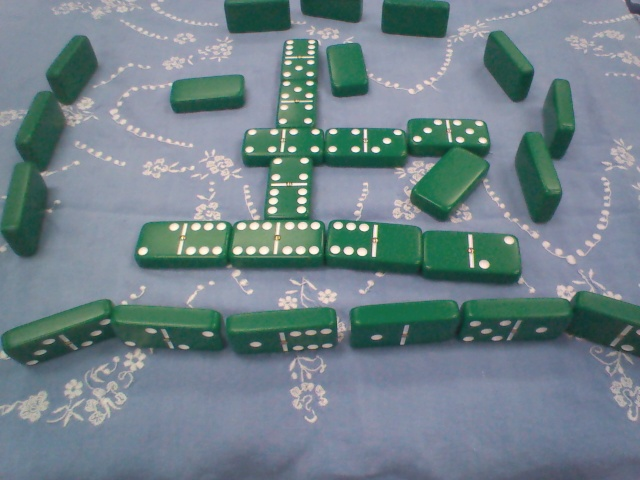A: (418, 136, 494, 217), (163, 70, 250, 117), (320, 36, 378, 97)
B: (420, 226, 524, 288), (325, 220, 422, 273), (133, 214, 231, 265), (396, 115, 499, 158), (234, 216, 324, 264), (325, 123, 408, 171), (261, 153, 312, 222), (243, 124, 325, 159), (278, 34, 327, 86), (272, 78, 323, 126)
C: (3, 160, 52, 262), (40, 32, 105, 100), (13, 90, 65, 164)
D: (506, 130, 563, 228), (477, 31, 532, 108), (530, 75, 582, 155)
E: (108, 301, 226, 365), (342, 294, 460, 357), (221, 305, 344, 361), (1, 313, 112, 374), (461, 291, 571, 352), (561, 279, 640, 358)
F: (379, 1, 454, 41), (221, 2, 300, 34), (300, 1, 366, 24)
